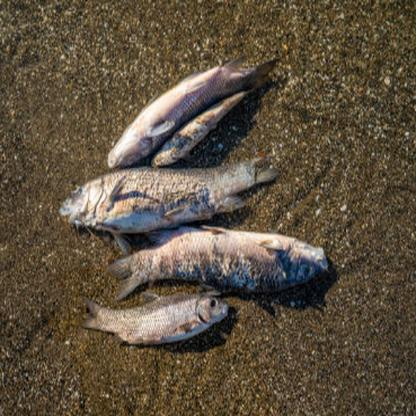deceased fish: (103, 55, 279, 162), (56, 160, 285, 230), (113, 228, 331, 296), (77, 295, 232, 344)
